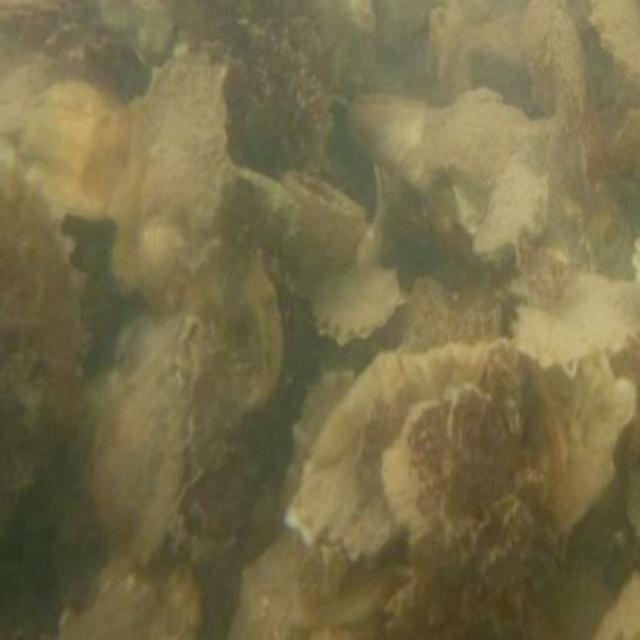Oyster-Closed: (287, 341, 499, 554), (387, 347, 568, 561), (112, 46, 228, 307), (0, 147, 80, 519), (533, 350, 630, 529), (16, 76, 132, 224), (426, 96, 565, 188), (210, 241, 279, 410), (514, 282, 636, 370), (468, 156, 558, 262), (279, 170, 367, 275), (547, 17, 599, 190), (232, 535, 314, 640), (343, 88, 429, 182), (314, 254, 399, 347), (419, 6, 467, 105), (587, 0, 640, 68)
